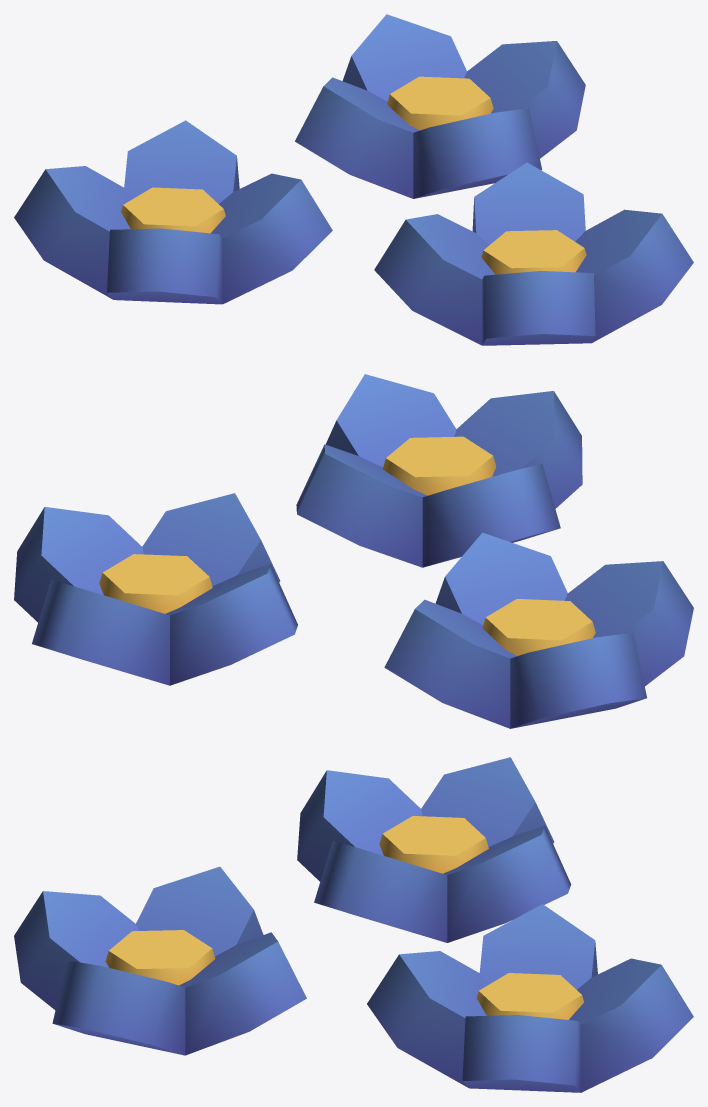
Rendered from flowers.glb.
The picture shows the model from 3 angles, top to bottom: view 1: azimuth 30°, elevation 25°; view 2: azimuth 150°, elevation 25°; view 3: azimuth 270°, elevation 25°; orthographic projection. The views are drawn at different scales.
Parts seen in each view (by area): view 1: flowers; view 2: flowers; view 3: flowers.
Boxes of the visible parts, x1,y1,x2,y2 form: flowers: [14, 14, 693, 345]; flowers: [14, 374, 693, 728]; flowers: [14, 757, 693, 1092].
Bounding box in the file's own units: 0.7766 × 0.137 × 0.7857.
Materials: 1 (1 with a texture image).
